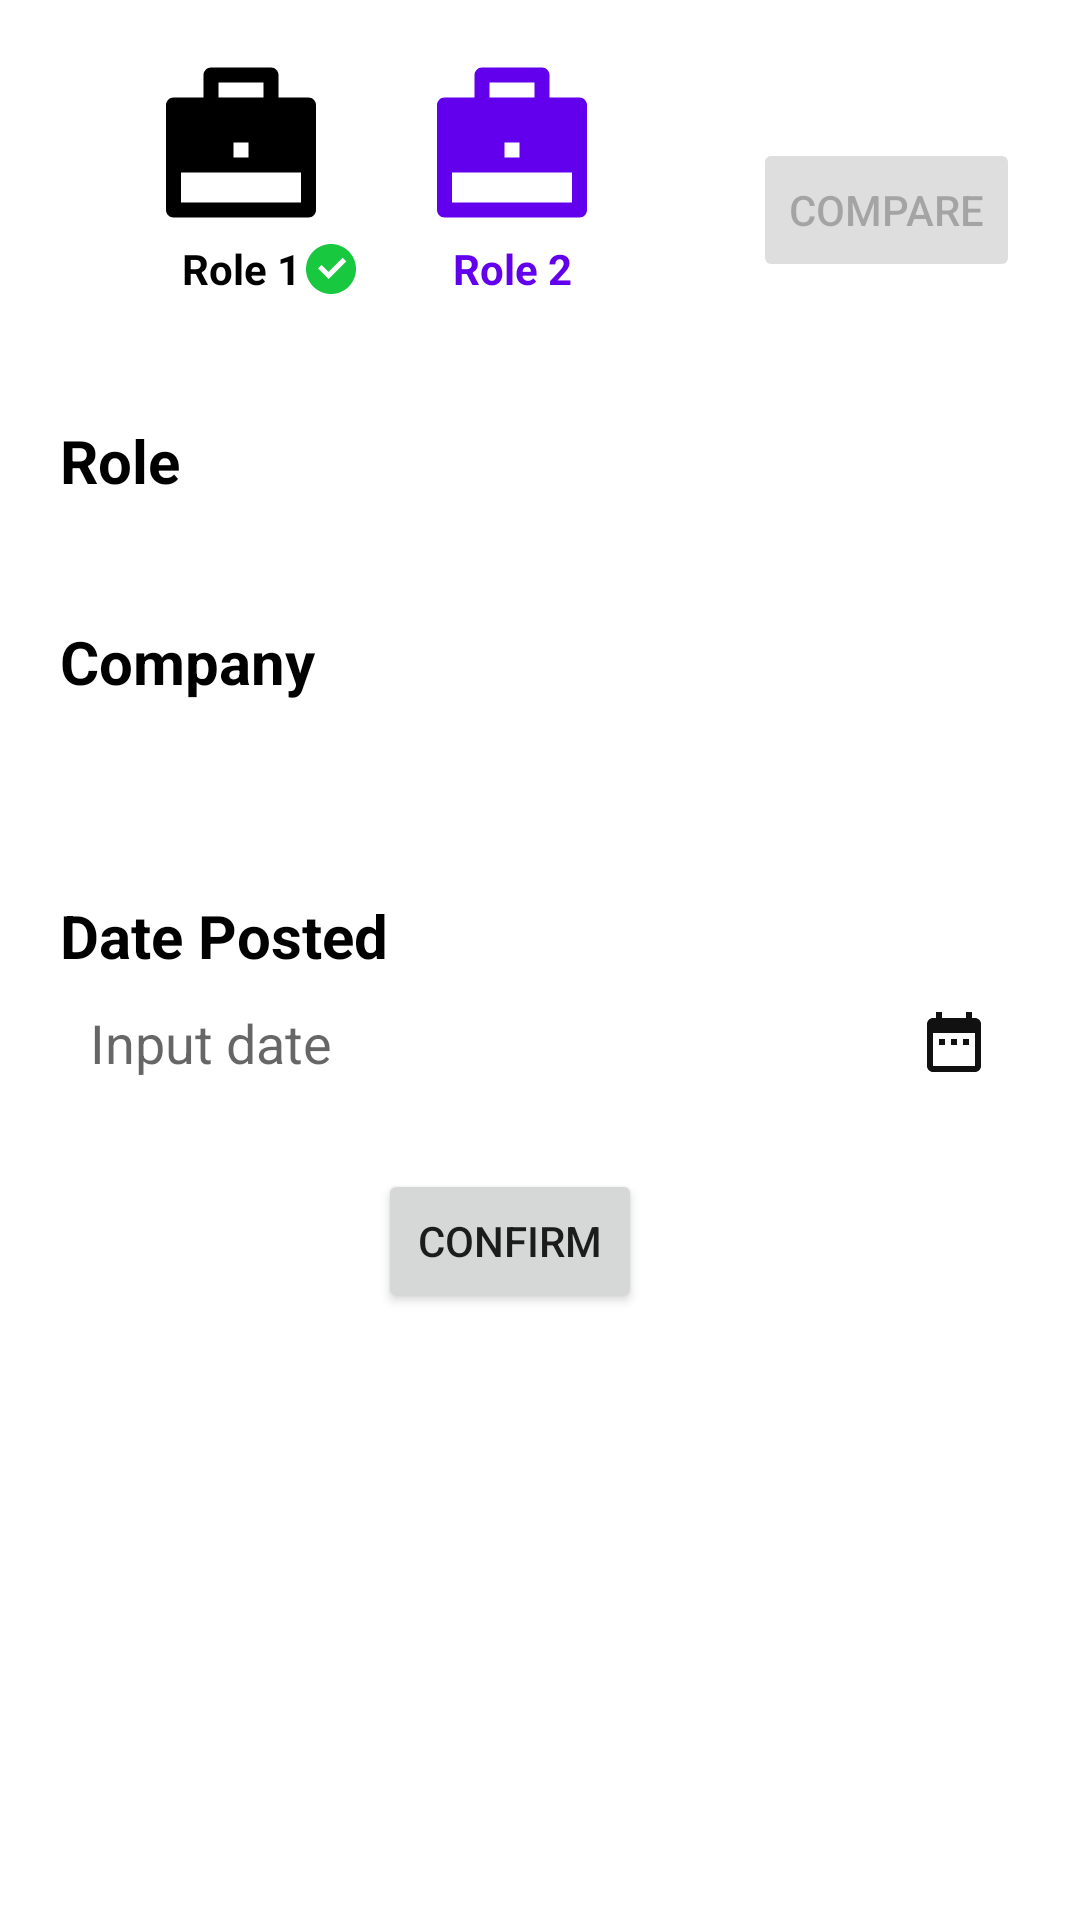

Where to tap for icons on this 1080*1920 app screen, as (x,y):
check: (331,269)
jobs: (241,142), (512,142)
